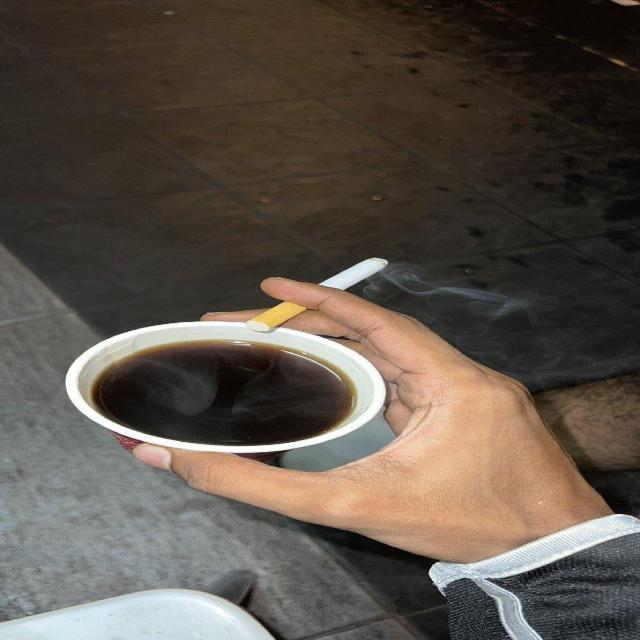rokok: (248, 252, 390, 328)
